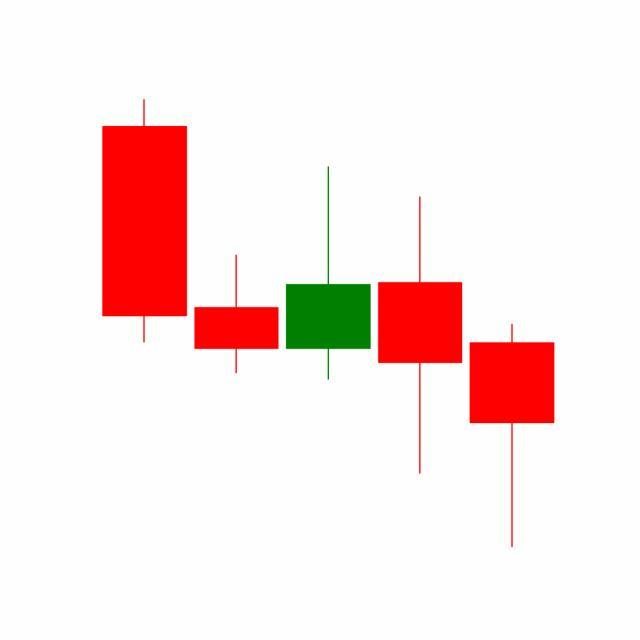Three Outside Up-Down: (280, 162, 555, 549)
